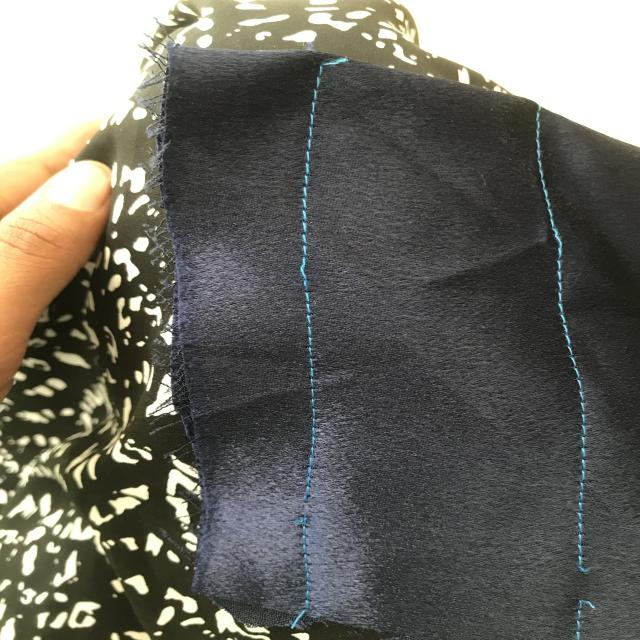broken: (565, 560, 613, 622), (292, 482, 326, 536)
skip: (527, 218, 579, 262), (289, 243, 321, 291)
